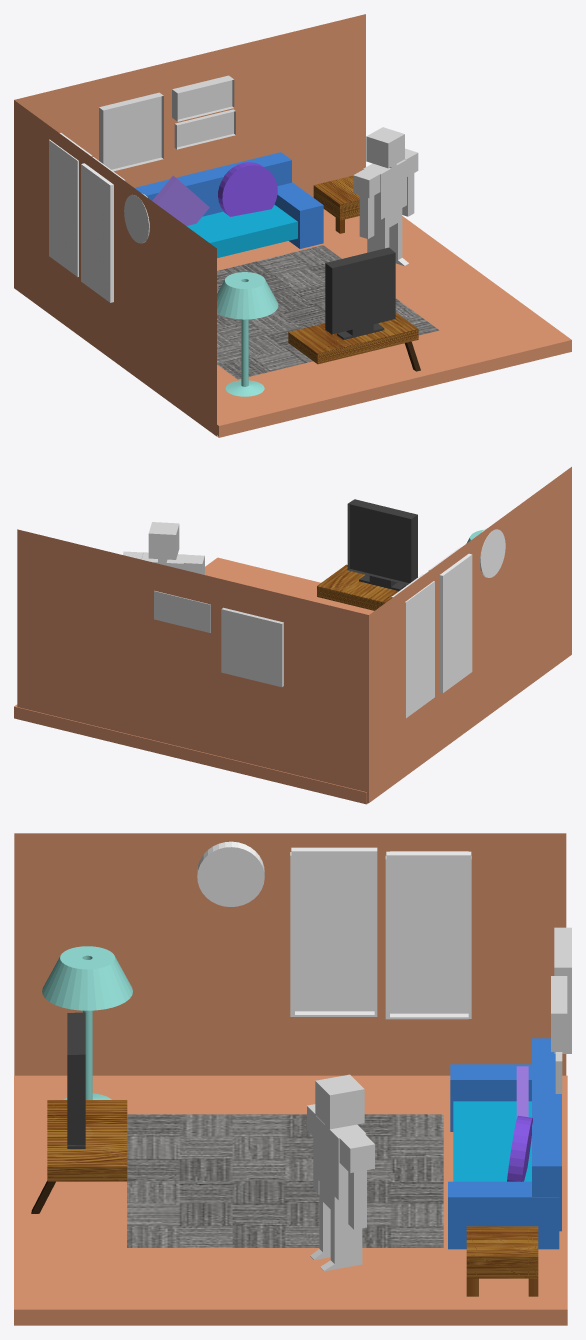
The model's file is living_room.glb.
The picture shows the model from 3 angles, top to bottom: view 1: azimuth 30°, elevation 25°; view 2: azimuth 150°, elevation 25°; view 3: azimuth 270°, elevation 25°; orthographic projection. The views are drawn at different scales.
Parts seen in each view (by area): view 1: ruangan, karpet, Cube.001, Cube.004, sofa, figura, jendela 2, jendela.001, sofa.001, Circle, meja, Cylinder.001 (+5 smaller); view 2: ruangan, Cube.004, jendela 2, figura, jendela.001, meja, Cube.001, figura 2, Cylinder; view 3: ruangan, karpet, jendela 2, jendela.001, sofa, Cube.001, meja, Circle, sofa.001, meja kecil, Cylinder, Cube.004 (+4 smaller).
Part boxes in pixels (x1,y1,x2,y2): ruangan: [14, 14, 571, 437]; karpet: [217, 245, 439, 379]; Cube.001: [353, 127, 418, 266]; Cube.004: [325, 247, 395, 339]; sofa: [135, 152, 323, 248]; figura: [99, 92, 163, 171]; jendela 2: [81, 157, 125, 302]; jendela.001: [49, 133, 92, 276]; sofa.001: [186, 204, 297, 258]; Circle: [217, 272, 278, 396]; meja: [288, 312, 418, 364]; Cylinder.001: [218, 162, 277, 216]; ruangan: [14, 467, 571, 804]; Cube.004: [347, 499, 417, 590]; jendela 2: [428, 547, 472, 693]; figura: [221, 607, 283, 687]; jendela.001: [391, 574, 434, 718]; meja: [317, 564, 407, 610]; Cube.001: [123, 522, 204, 574]; figura 2: [154, 590, 210, 632]; Cylinder: [480, 528, 505, 577]; ruangan: [14, 833, 567, 1325]; karpet: [127, 1114, 443, 1247]; jendela 2: [290, 847, 377, 1016]; jendela.001: [385, 851, 471, 1019]; sofa: [448, 1038, 561, 1249]; Cube.001: [307, 1074, 374, 1271]; meja: [47, 1100, 127, 1181]; Circle: [42, 946, 132, 1099]; sofa.001: [453, 1101, 531, 1181]; meja kecil: [466, 1226, 538, 1296]; Cylinder: [197, 841, 264, 906]; Cube.004: [67, 1012, 85, 1148].
Size of the model in its own units: 6.81 by 3.44 by 6.76.
Materials: 15 (3 with a texture image).
